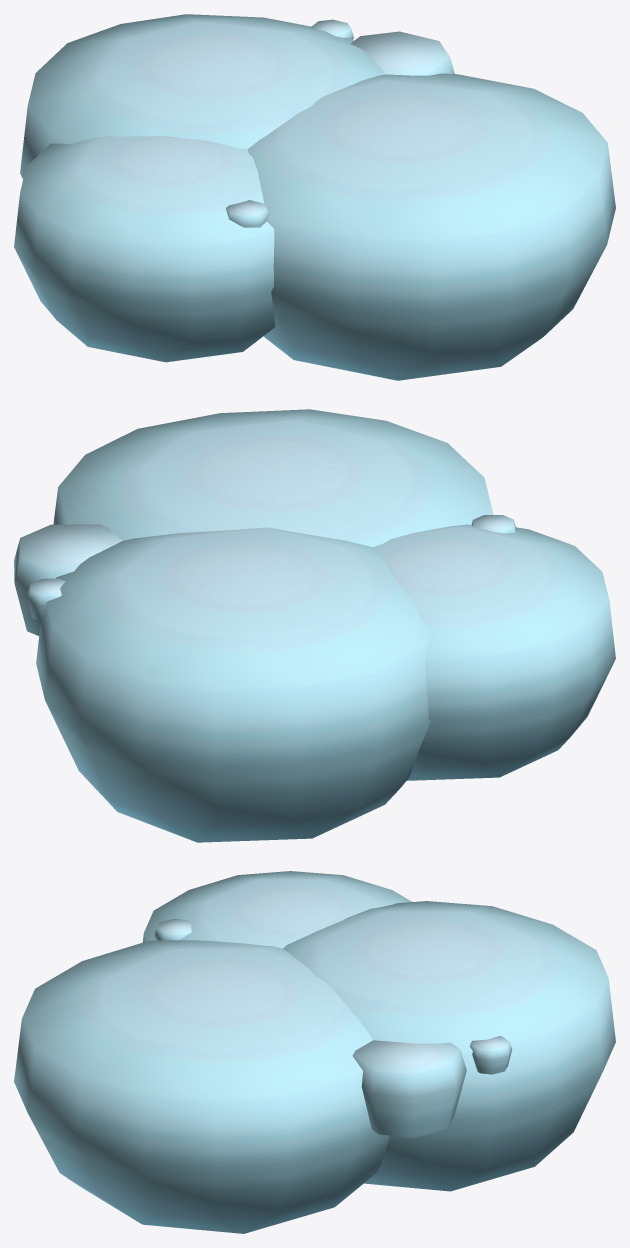
The model's file is FloorDeco1B-002_02_25_6815.fbx.
The picture shows the model from 3 angles, top to bottom: view 1: azimuth 30°, elevation 25°; view 2: azimuth 150°, elevation 25°; view 3: azimuth 270°, elevation 25°; orthographic projection. The views are drawn at different scales.
Visible parts, largest first — view 1: Snowpile (1), Snowpile (2), Snowpile, Snowpile (7), Snowpile (8), Snowpile (6); view 2: Snowpile, Snowpile (1), Snowpile (2), Snowpile (7), Snowpile (6), Snowpile (8); view 3: Snowpile (1), Snowpile, Snowpile (2), Snowpile (7), Snowpile (6), Snowpile (8).
Part boxes in pixels (x1,y1,x2,y2): Snowpile (1): (247,73,615,380); Snowpile (2): (14,135,275,362); Snowpile: (20,14,385,179); Snowpile (7): (350,31,454,75); Snowpile (8): (226,200,269,227); Snowpile (6): (310,19,353,39); Snowpile: (36,527,434,842); Snowpile (1): (53,409,493,546); Snowpile (2): (373,524,615,780); Snowpile (7): (14,524,122,635); Snowpile (6): (27,578,65,622); Snowpile (8): (471,515,516,533); Snowpile (1): (14,940,389,1233); Snowpile: (283,901,615,1191); Snowpile (2): (142,871,411,948); Snowpile (7): (352,1040,466,1137); Snowpile (6): (469,1036,512,1074); Snowpile (8): (154,919,191,940).
Bounding box in the file's own units: 2.62 × 0.9768 × 2.74.
